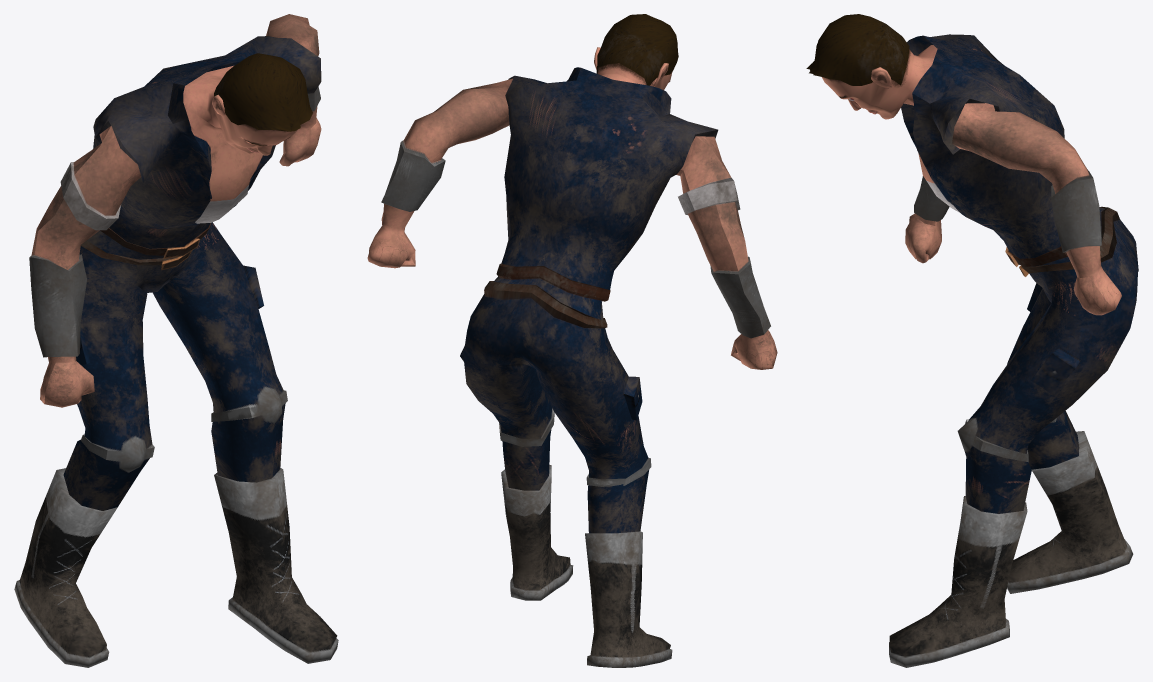
Rendered from Anim_coger_objeto_jugador.0023.obj.
3 views of the same model, side by side, from view 1: azimuth 30°, elevation 25°; view 2: azimuth 150°, elevation 25°; view 3: azimuth 270°, elevation 25° (orthographic). The views are drawn at different scales.
Visible parts, largest first — view 1: polySurface1; view 2: polySurface1; view 3: polySurface1.
Boxes of the visible parts, <box> form: polySurface1: <box>14,14,338,667</box>; polySurface1: <box>367,14,777,667</box>; polySurface1: <box>806,14,1138,667</box>.
Bounding box in the file's own units: 4.95 × 8.3 × 4.06.
